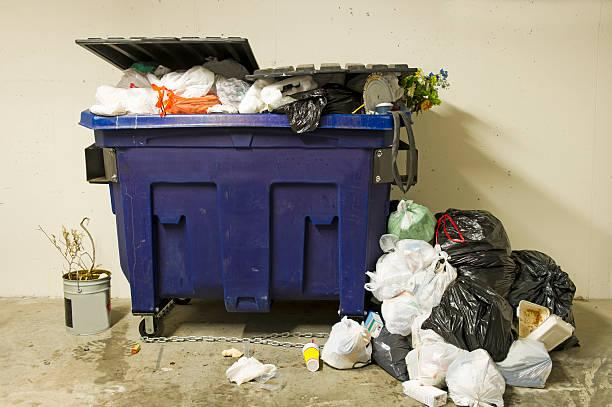trash: (98, 55, 435, 127), (422, 256, 519, 370), (368, 234, 448, 339), (509, 229, 569, 328), (434, 205, 517, 267), (513, 298, 580, 368), (426, 339, 505, 398), (321, 305, 385, 375), (492, 329, 545, 401), (361, 323, 421, 381), (401, 325, 443, 407), (214, 348, 280, 399), (388, 194, 434, 249), (299, 333, 333, 379), (365, 305, 388, 336)
trash_can_overflow: (60, 8, 554, 399)
